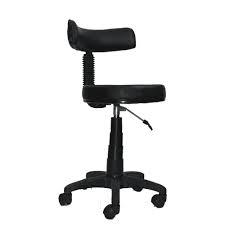chair: (48, 11, 181, 221)
